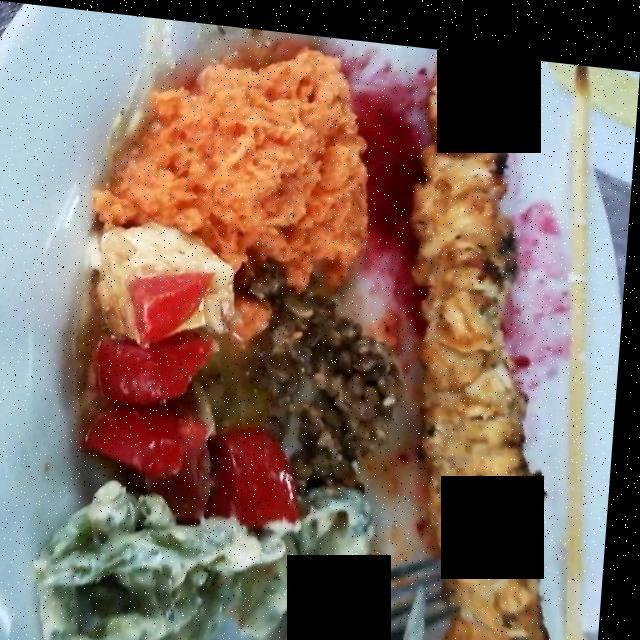beans: (49, 457, 379, 640)
carrot: (113, 36, 372, 283)
chicken: (425, 42, 555, 640)
lentils: (250, 256, 410, 490)
tomato: (87, 276, 310, 516)
